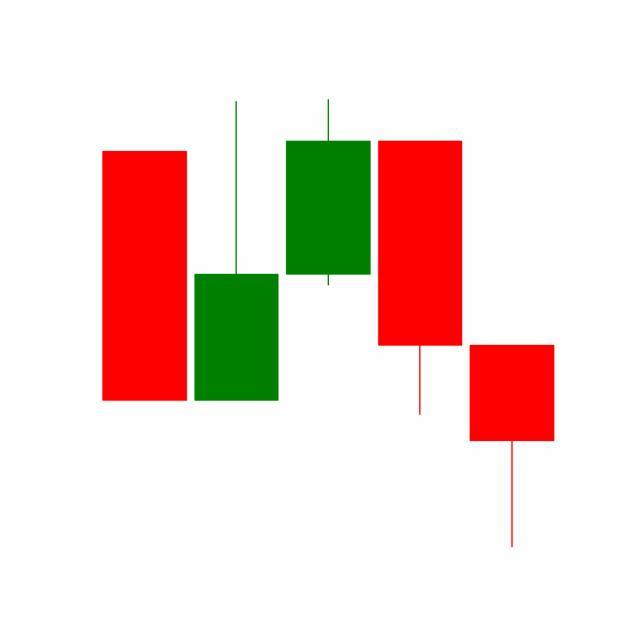Hammer: (466, 342, 559, 550)
